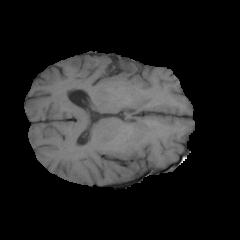glioma: (67, 58, 153, 117)
